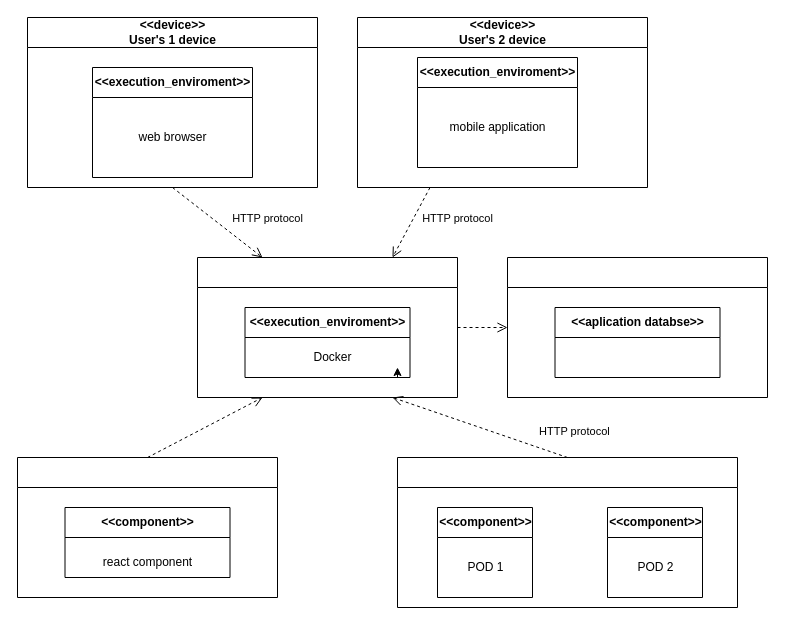
This 785x625 diagram has some shape labels left out. Each missing label, with the box of its shape:
<<application's server>>: (196, 256, 458, 398)
MongoDB: (506, 256, 768, 398)
Radarin: (16, 456, 278, 598)
SOLID: (396, 456, 738, 608)
